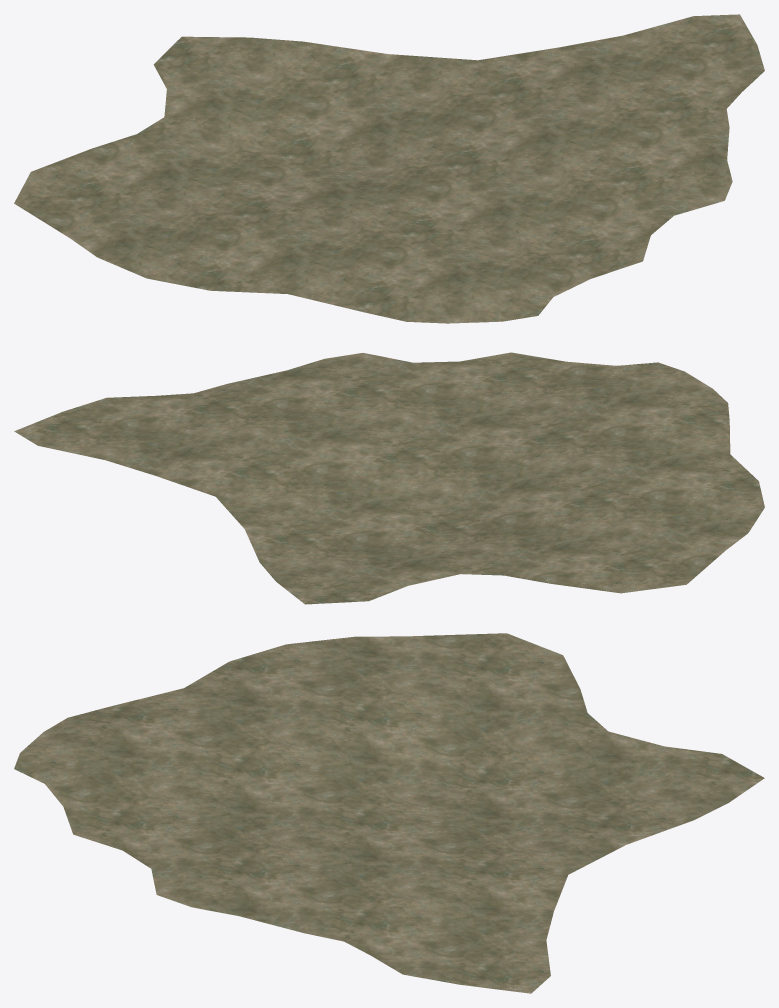
File: EKH_CAVERNS_PS_CA_LINE42.fbx
3 views of the same model, one above another, from view 1: azimuth 30°, elevation 25°; view 2: azimuth 150°, elevation 25°; view 3: azimuth 270°, elevation 25° (orthographic). The views are drawn at different scales.
Visible parts, largest first — view 1: EKH_CAVERNS_PS_CA_LINE42; view 2: EKH_CAVERNS_PS_CA_LINE42; view 3: EKH_CAVERNS_PS_CA_LINE42.
Part boxes in pixels (box(x1,y1,x2,y2)): EKH_CAVERNS_PS_CA_LINE42: box(14, 14, 764, 323); EKH_CAVERNS_PS_CA_LINE42: box(14, 352, 764, 604); EKH_CAVERNS_PS_CA_LINE42: box(14, 633, 764, 993).
Size of the model in its own units: 222771 by 4487 by 196107.
1 material, 1 textured.
